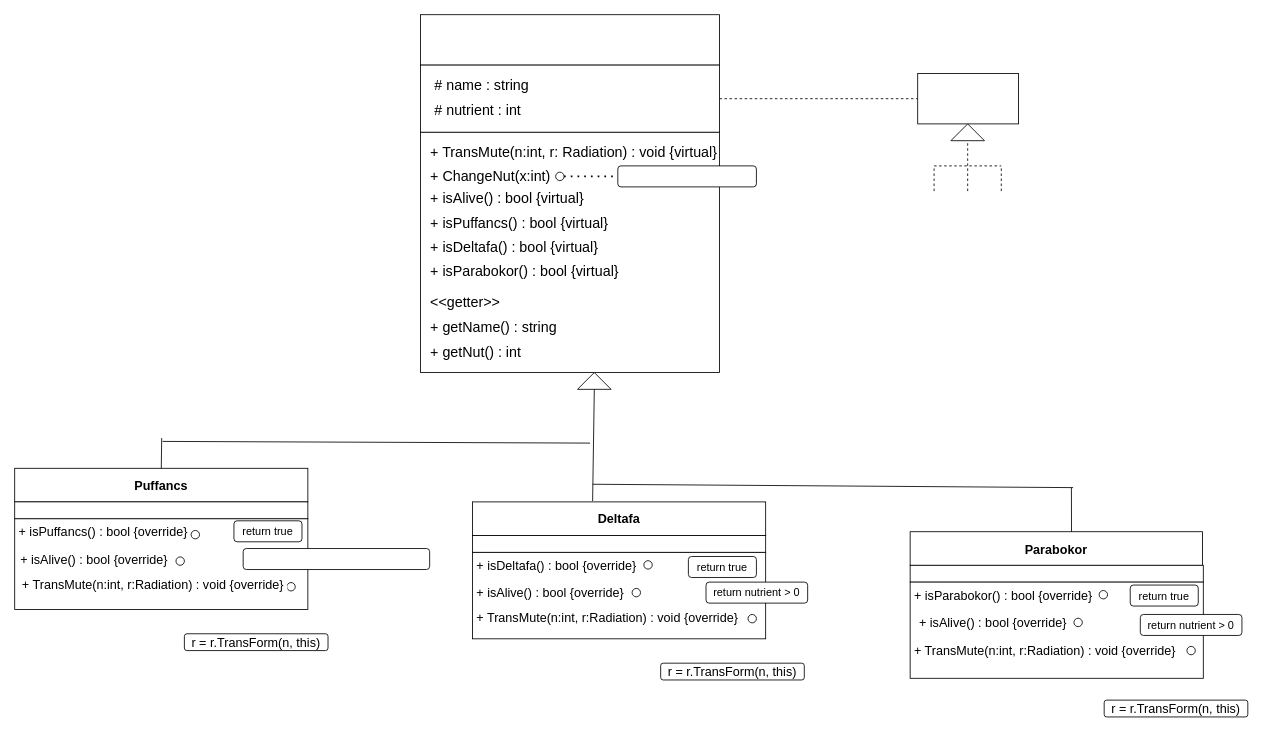
Image size: 1263x732. Some labels were removed from this diagram. The shapes that lost their labels are listed below. From the top down, each one's centre as x and y in pixels, then its label:
At (569,39): "Plant".
At (967,98): "Radiation".
At (686,176): "nutrient := nutrient + x".
At (336,559): "return nutrient > 0 AND nutrient < 10".
